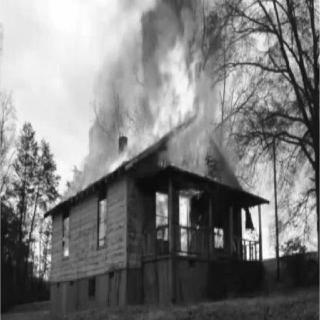Fire: (60, 6, 226, 258)
